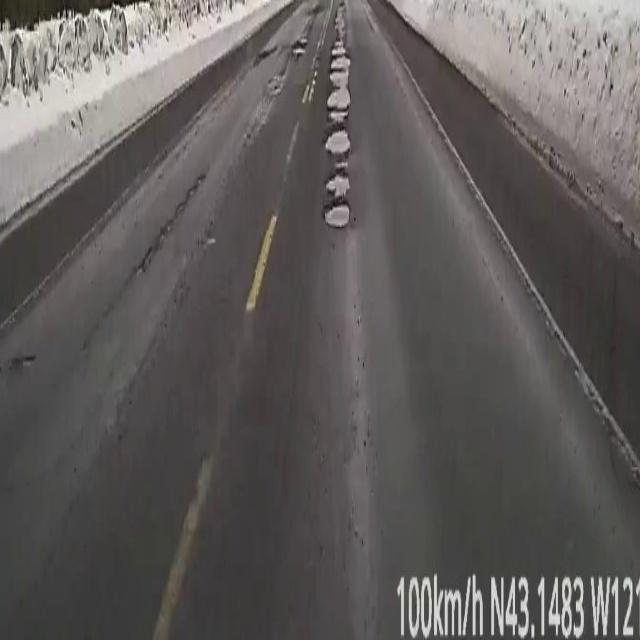pothole: (325, 0, 350, 228), (292, 40, 304, 59)
